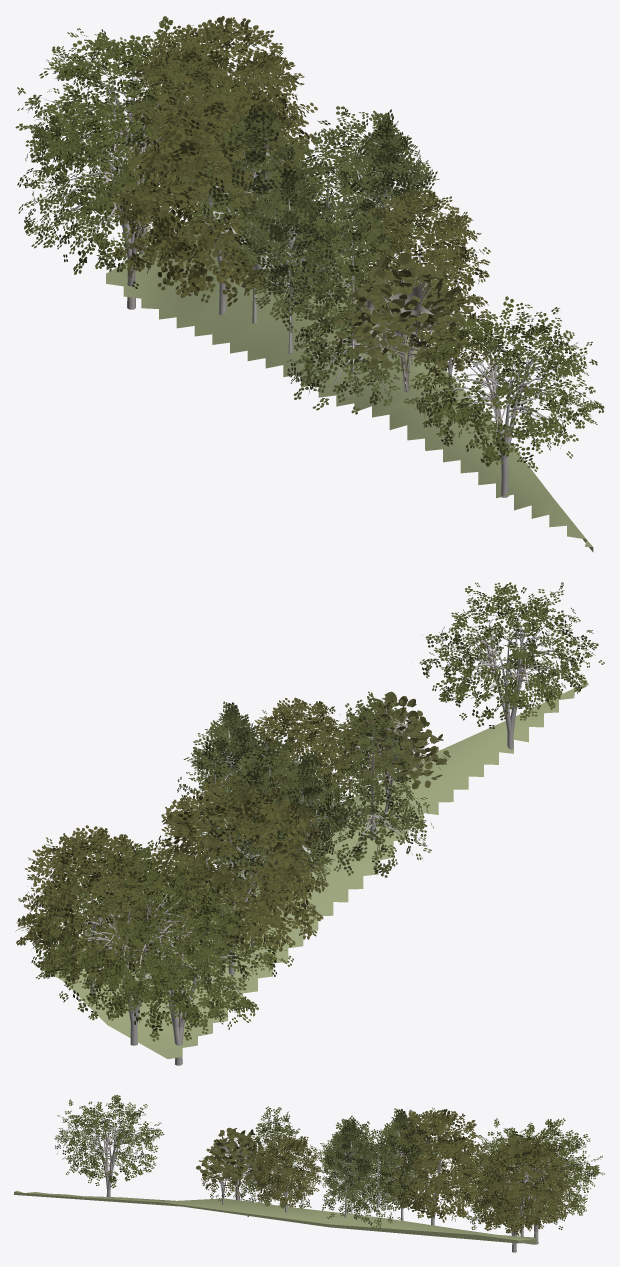
3 views of the same model, one above another, from view 1: azimuth 30°, elevation 25°; view 2: azimuth 150°, elevation 25°; view 3: azimuth 270°, elevation 25° (orthographic). The views are drawn at different scales.
Parts seen in each view (by area): view 1: SW_W_trees_Tree_015_UNVERIFIEDspecies, SW_W_trees_Tree_019_UNVERIFIEDspecies, SW_ground_west_lawn_-2_0, SW_W_trees_Tree_023_UNVERIFIEDspecies, SW_W_trees_Tree_050_UNVERIFIEDspecies, SW_W_trees_Tree_096_UNVERIFIEDspecies; view 2: SW_W_trees_Tree_015_UNVERIFIEDspecies, SW_W_trees_Tree_019_UNVERIFIEDspecies, SW_ground_west_lawn_-2_0, SW_W_trees_Tree_023_UNVERIFIEDspecies, SW_W_trees_Tree_050_UNVERIFIEDspecies, SW_W_trees_Tree_096_UNVERIFIEDspecies; view 3: SW_W_trees_Tree_019_UNVERIFIEDspecies, SW_W_trees_Tree_015_UNVERIFIEDspecies, SW_W_trees_Tree_023_UNVERIFIEDspecies, SW_W_trees_Tree_050_UNVERIFIEDspecies, SW_ground_west_lawn_-2_0, SW_W_trees_Tree_096_UNVERIFIEDspecies.
Part boxes in pixels (box(x1,y1,x2,y2)): SW_W_trees_Tree_015_UNVERIFIEDspecies: box(15, 16, 604, 497); SW_W_trees_Tree_019_UNVERIFIEDspecies: box(108, 16, 493, 376); SW_ground_west_lawn_-2_0: box(106, 190, 593, 552); SW_W_trees_Tree_023_UNVERIFIEDspecies: box(180, 104, 439, 354); SW_W_trees_Tree_050_UNVERIFIEDspecies: box(264, 106, 409, 414); SW_W_trees_Tree_096_UNVERIFIEDspecies: box(332, 252, 476, 392); SW_W_trees_Tree_015_UNVERIFIEDspecies: box(15, 582, 604, 1065); SW_W_trees_Tree_019_UNVERIFIEDspecies: box(16, 697, 398, 984); SW_ground_west_lawn_-2_0: box(41, 682, 588, 1058); SW_W_trees_Tree_023_UNVERIFIEDspecies: box(183, 701, 359, 945); SW_W_trees_Tree_050_UNVERIFIEDspecies: box(167, 691, 433, 887); SW_W_trees_Tree_096_UNVERIFIEDspecies: box(337, 691, 450, 812); SW_W_trees_Tree_019_UNVERIFIEDspecies: box(201, 1107, 574, 1235); SW_W_trees_Tree_015_UNVERIFIEDspecies: box(54, 1095, 604, 1252); SW_W_trees_Tree_023_UNVERIFIEDspecies: box(314, 1108, 439, 1220); SW_W_trees_Tree_050_UNVERIFIEDspecies: box(240, 1106, 408, 1230); SW_ground_west_lawn_-2_0: box(14, 1191, 536, 1244); SW_W_trees_Tree_096_UNVERIFIEDspecies: box(196, 1127, 270, 1200).
Size of the model in its own units: 32.22 by 31.11 by 109.
Materials: 10 (5 with a texture image).
